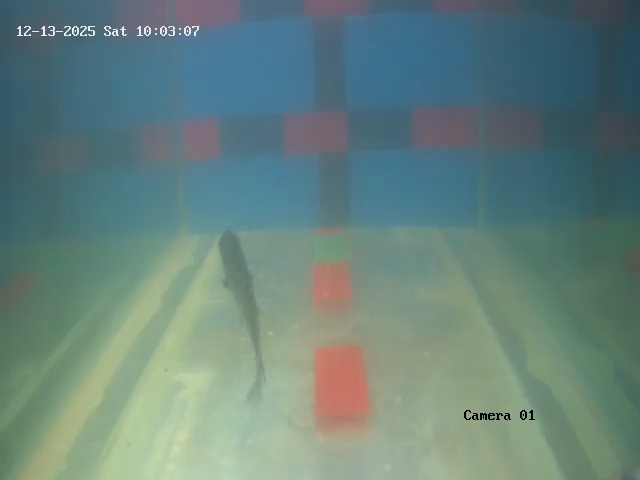fish: (213, 230, 270, 355)
